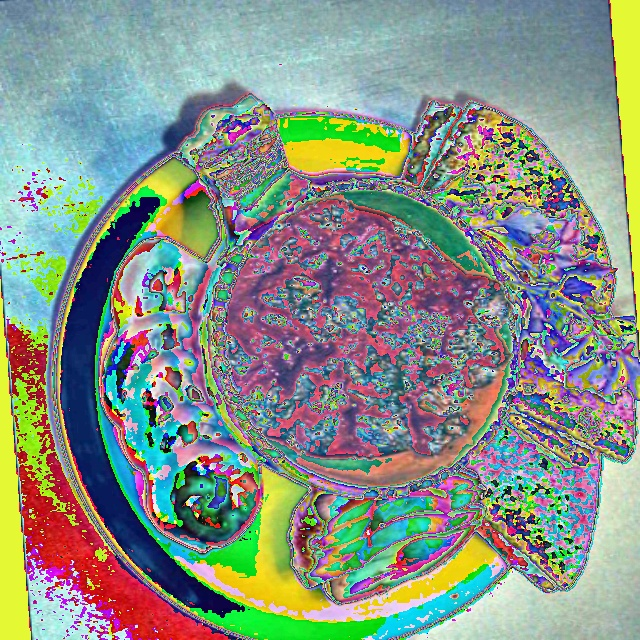background: (225, 99, 639, 606), (100, 237, 263, 553)
